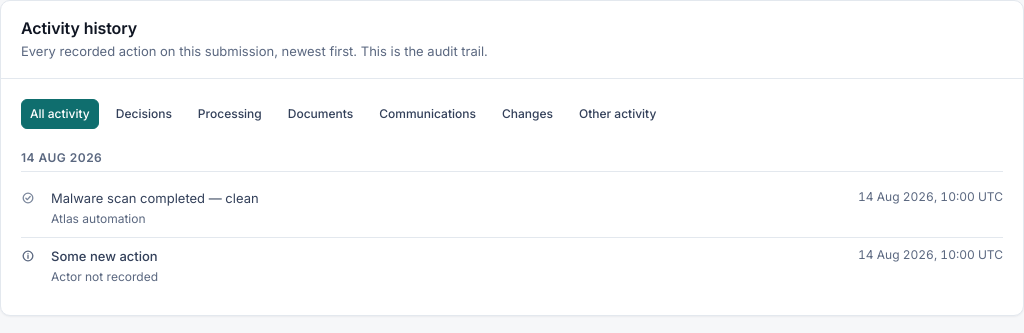
Audit timeline › no longer files malware_scan_completed under Other activity
This screenshot has width=1024, height=333.
expect the text "Malware scan completed — clean" is shown: met, box [51,190,259,206]
Click the button "Other activity" at (618, 114), box [570,98,665,128]
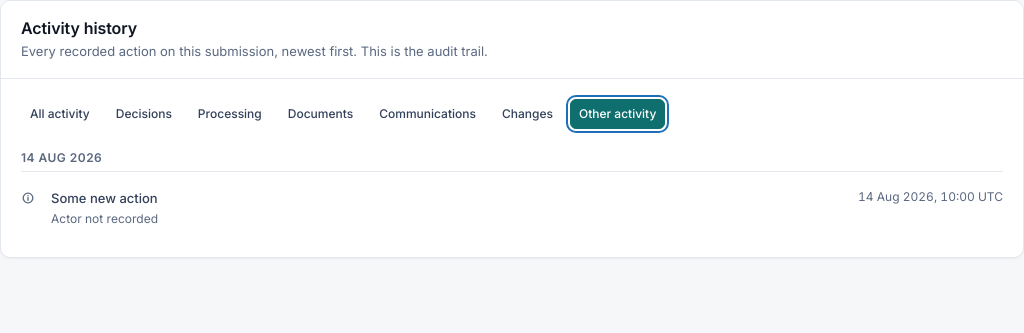
expect the text "Some new action" is shown: met, box [51,190,158,206]
expect the text "Malware scan completed" is gone: met
